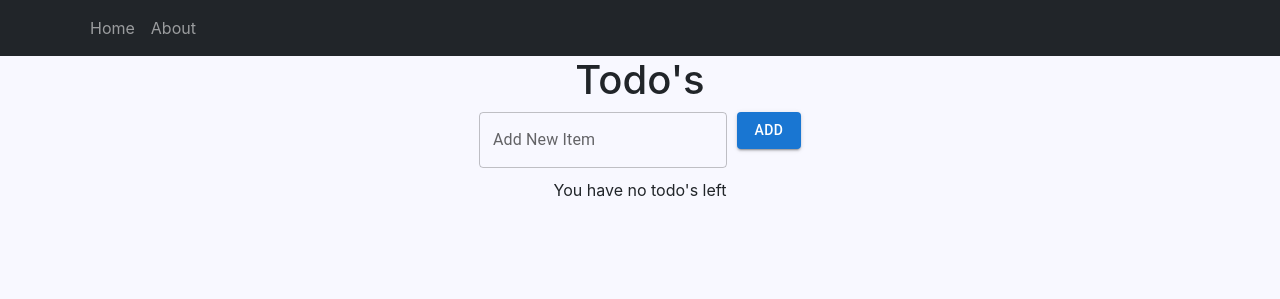
Test case: test that App component renders Task
Type "History Test" into the field labelled "Add New Item" at (603, 140), box [479,112,727,168]
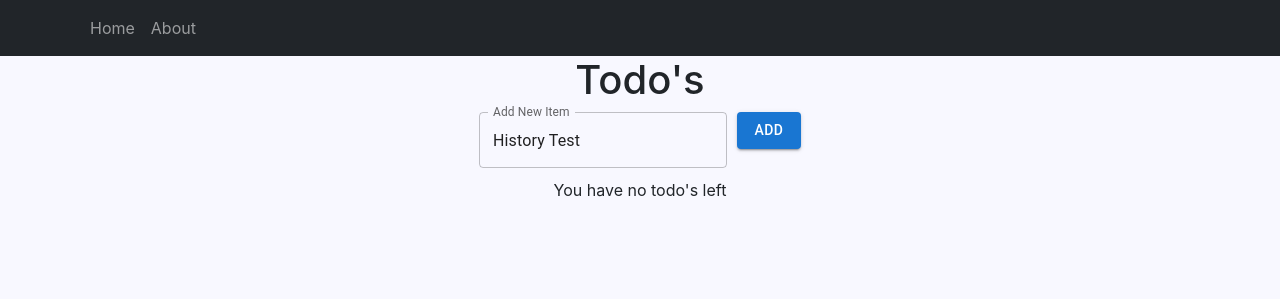
Click the button "Add" at (769, 130), box [737,112,801,148]
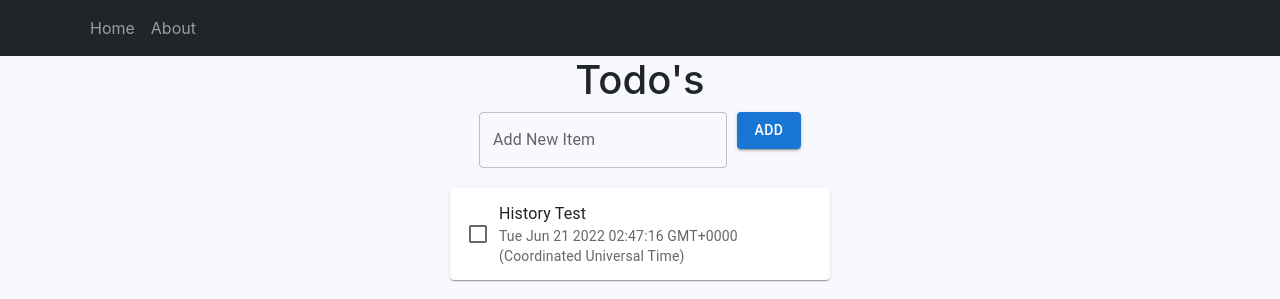
Expected: the text "History Test" is shown, [499,204,586,223]
